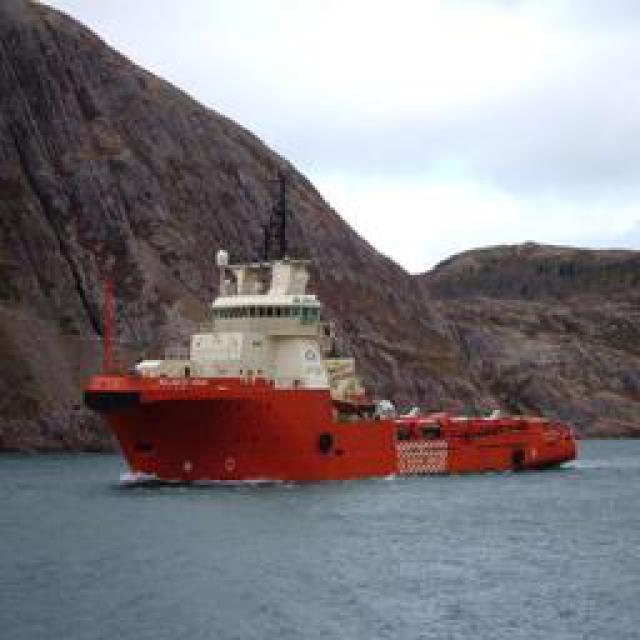Ship: (85, 251, 395, 484)
